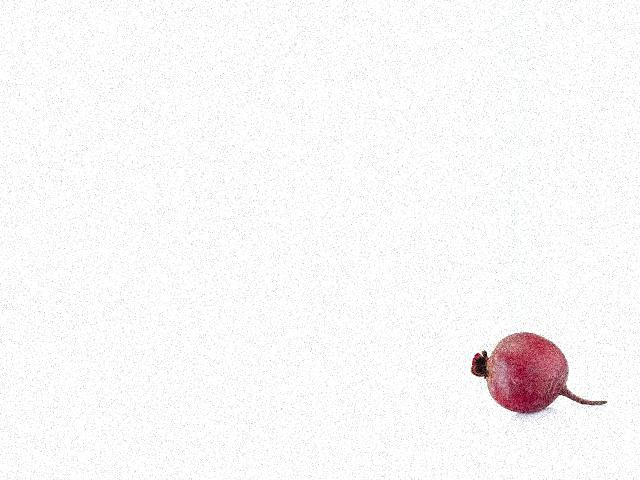beet: (472, 333, 606, 413)
